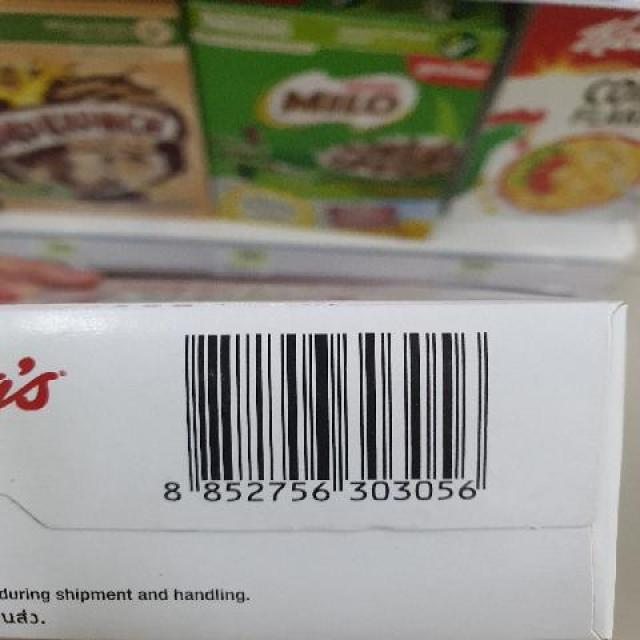Barcode: (148, 319, 512, 512)
